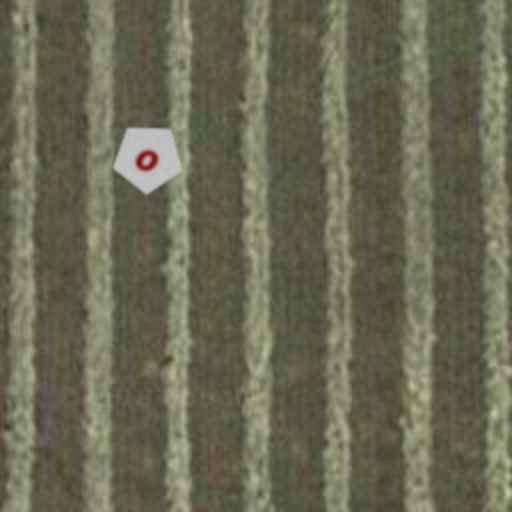pentagon: (100, 110, 196, 206)
